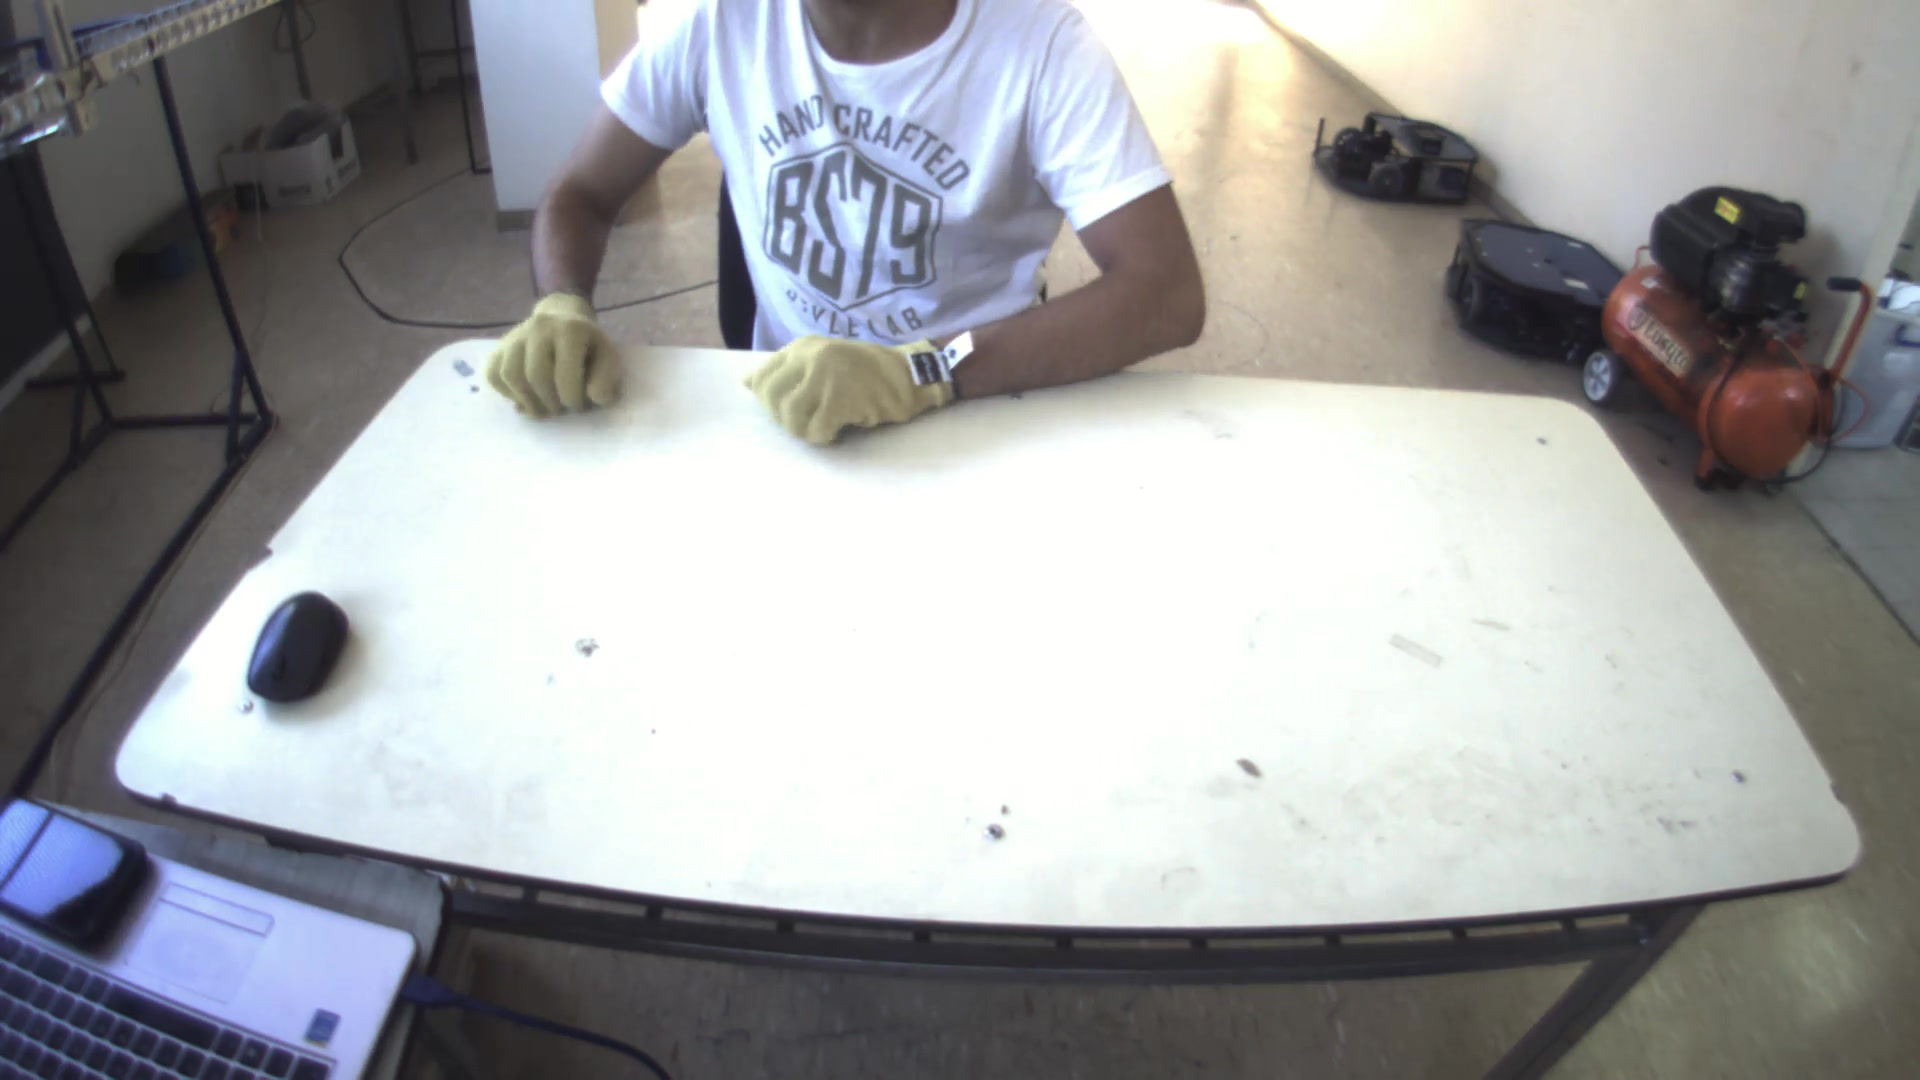hand: (731, 311, 952, 440), (465, 277, 628, 415)
